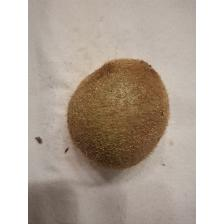Kiwi: (66, 54, 172, 170)
